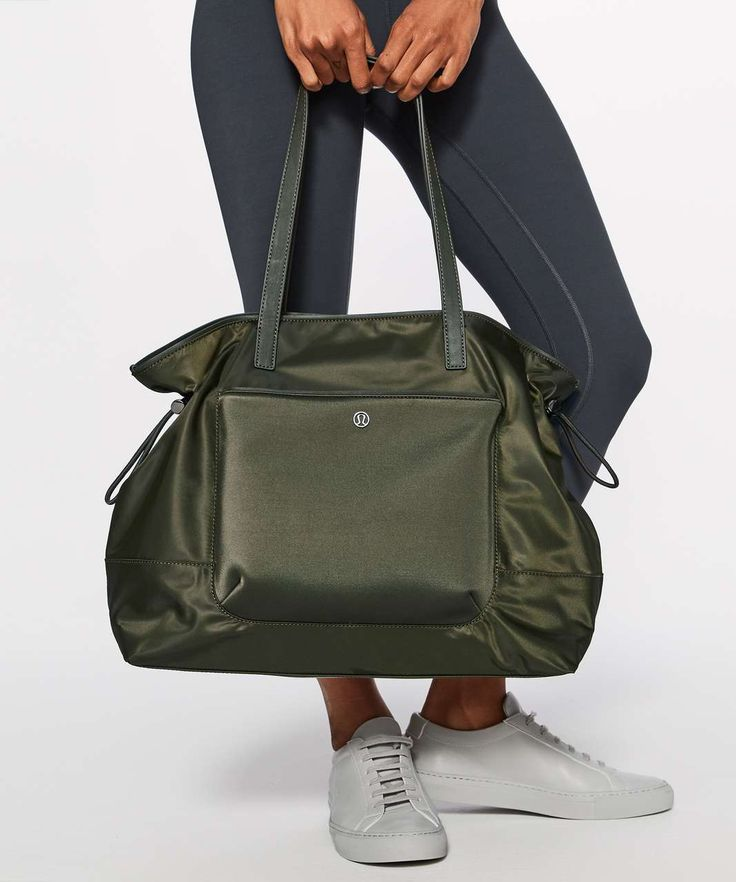nylon: (102, 303, 604, 679)
